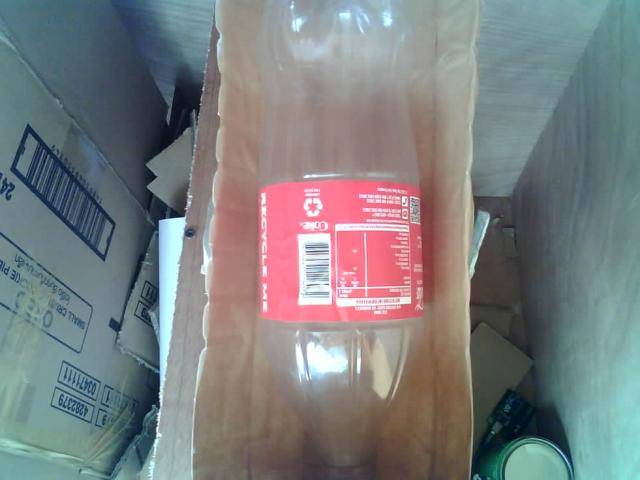large_bottle: (237, 0, 446, 480)
